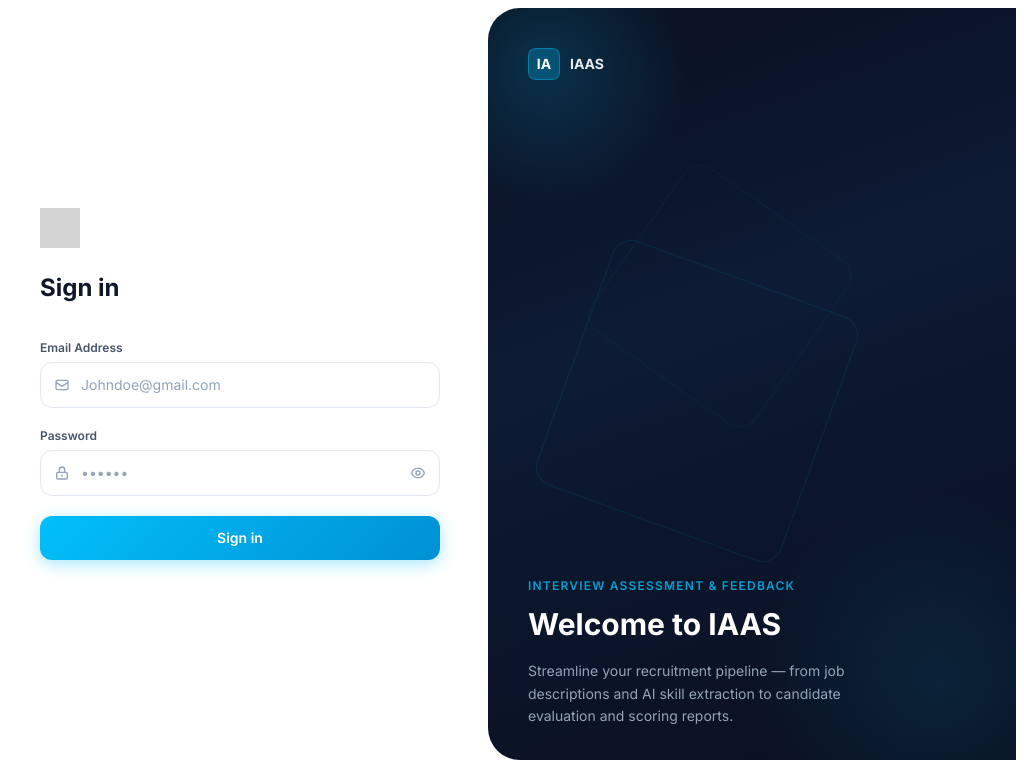
Test case: Login page — failed login › shows API error message on 401
The image size is (1024, 768).
Step 1. Type "bad@test.com" into the field labelled "Email Address" → {"x": 240, "y": 385}, box [40,362,440,408]
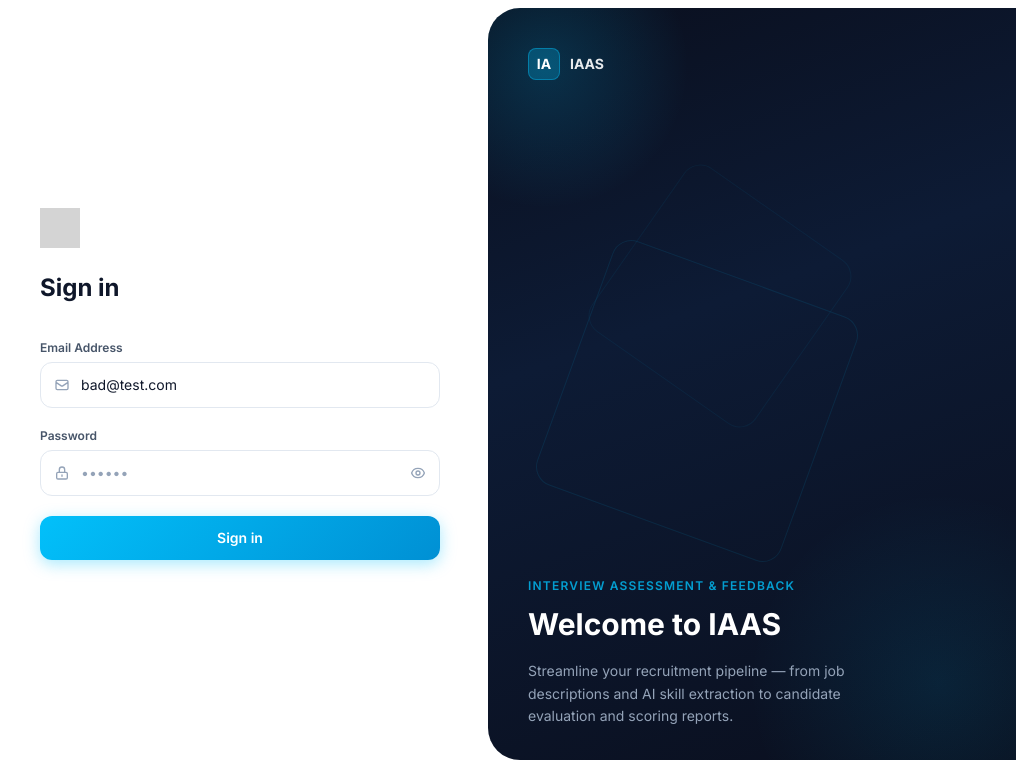
Step 2. Type "wrong" into the password field labelled "Password" → {"x": 240, "y": 473}, box [40,450,440,496]
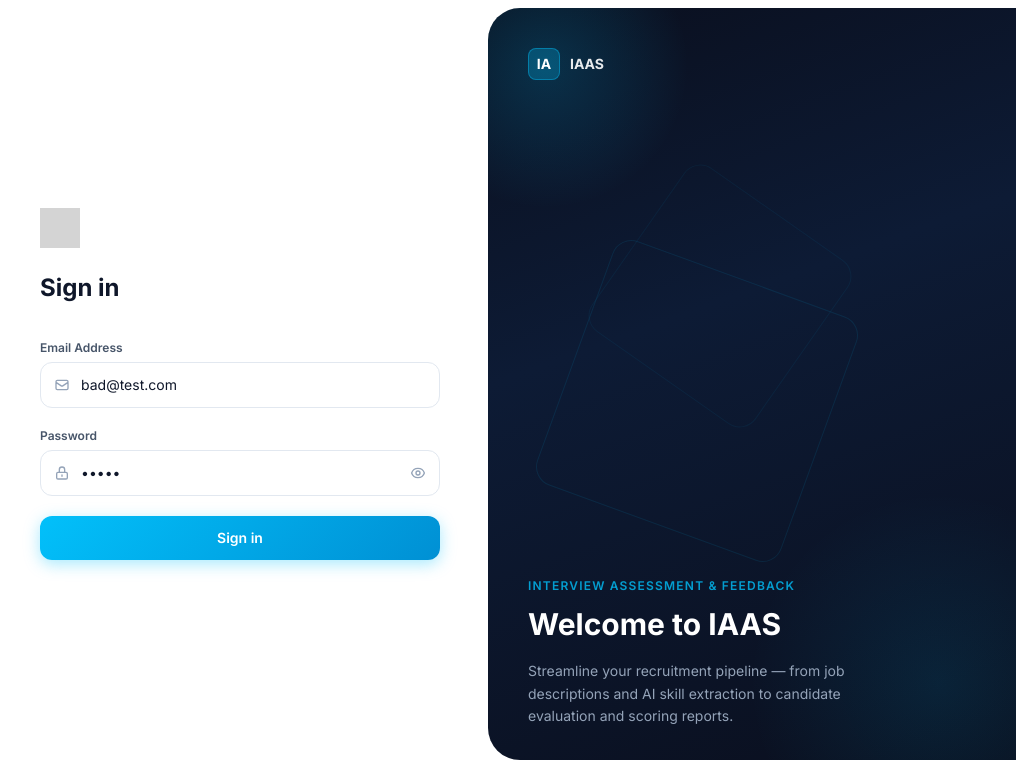
Step 3. Click the button "Sign in" → {"x": 240, "y": 538}, box [40,516,440,560]
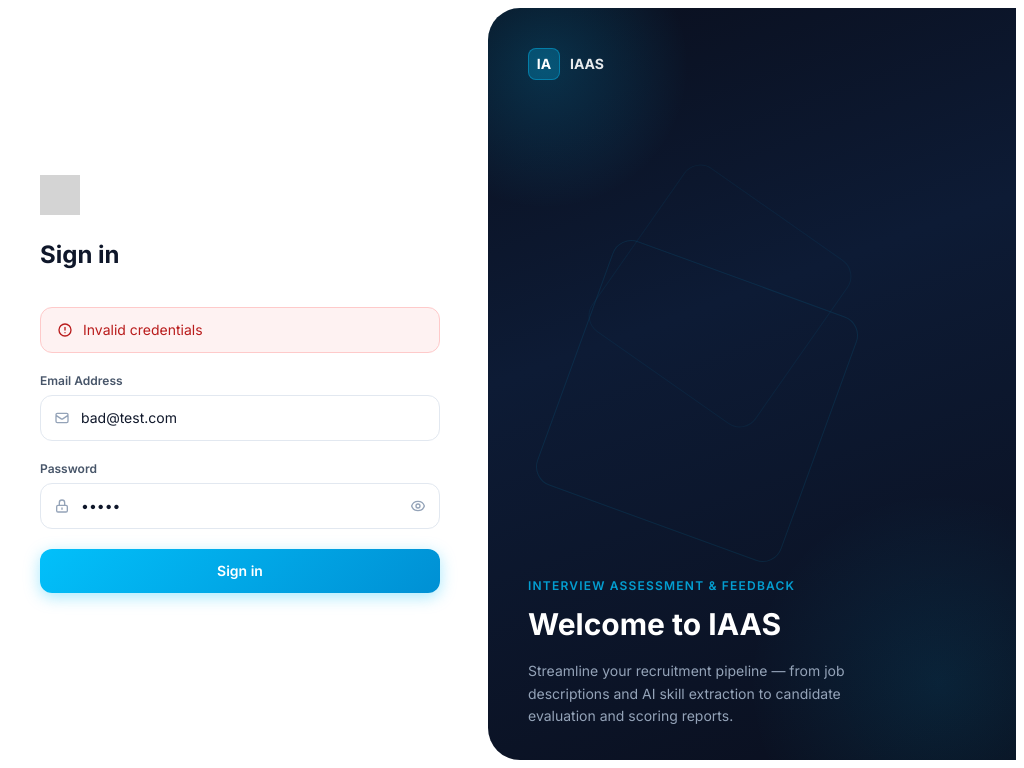
Check: the text "Invalid credentials" is shown, box [40,307,440,353]
